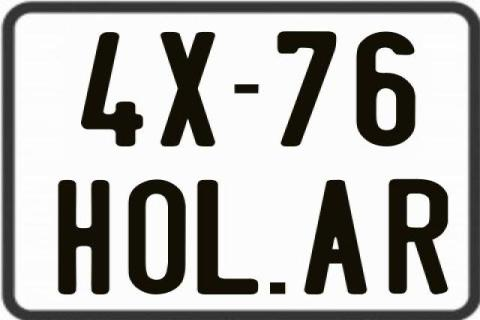0: (128, 178, 192, 296), (356, 31, 420, 146), (81, 32, 143, 150), (276, 29, 337, 145)
A: (304, 179, 370, 297)
H: (56, 178, 107, 292)
L: (195, 180, 261, 294)
R: (387, 179, 448, 295)
X: (160, 31, 216, 149)
